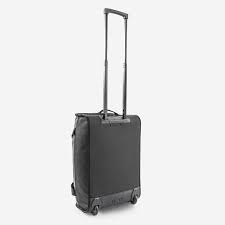suitcase: (69, 7, 144, 217)
